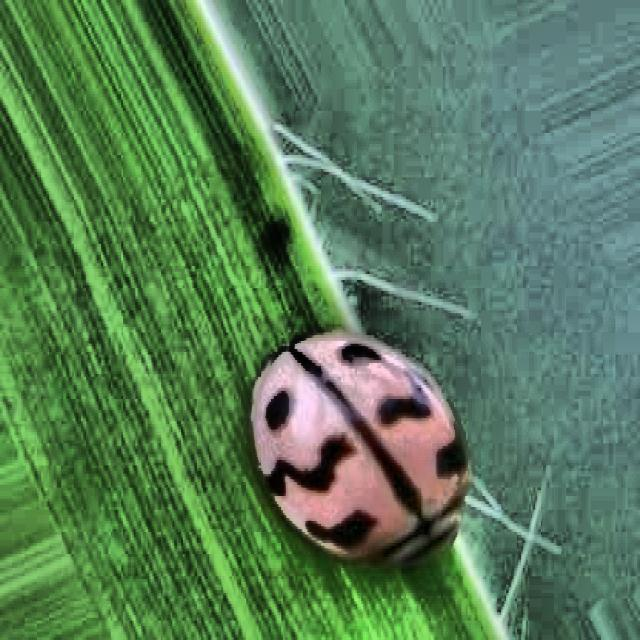Asian-Lady-beetle: (232, 260, 518, 640)
